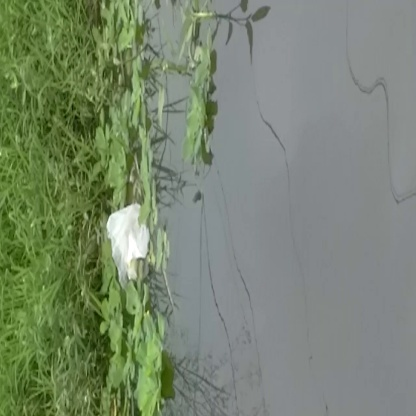plastic-bag: (105, 200, 156, 289)
